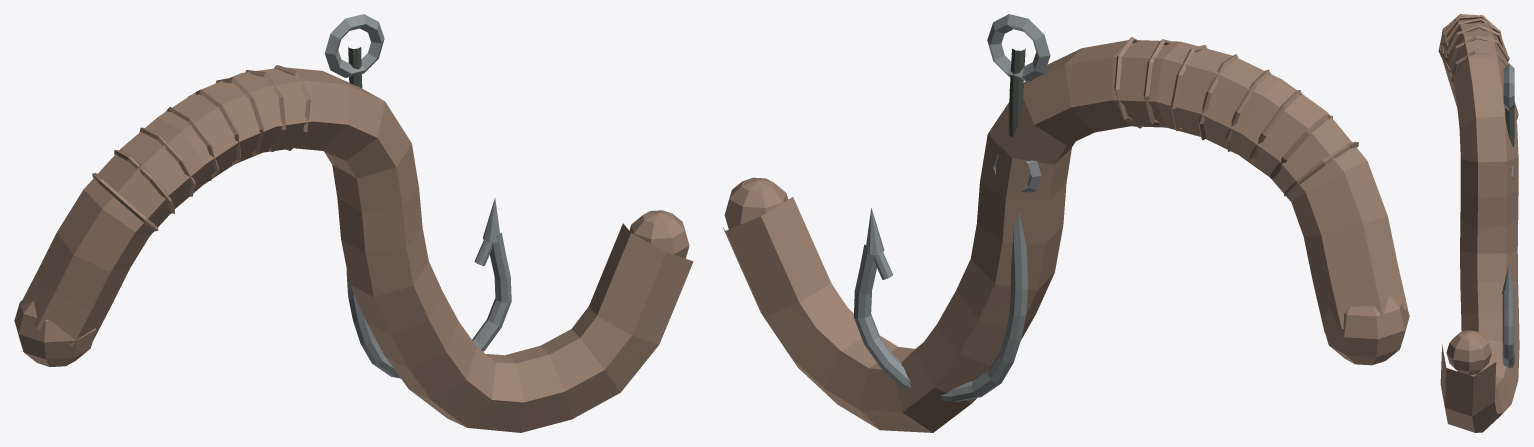
The model's file is bait-lv1.glb.
3 views of the same model, side by side, from view 1: azimuth 30°, elevation 25°; view 2: azimuth 150°, elevation 25°; view 3: azimuth 270°, elevation 25° (orthographic). The views are drawn at different scales.
Parts seen in each view (by area): view 1: Curved_Soft_Worm, Hook_Shank_And_Bend, Worm_Head, Leader_Eye, Worm_Tail; view 2: Curved_Soft_Worm, Hook_Shank_And_Bend, Worm_Head, Leader_Eye, Worm_Tail, Short_Leader; view 3: Curved_Soft_Worm, Worm_Tail, Hook_Shank_And_Bend, Leader_Eye, Worm_Segment_6, Worm_Segment_7, Short_Leader, Worm_Segment_4, Worm_Segment_5, Worm_Segment_8, Sharp_Point, Worm_Segment_3.
Boxes of the visible parts, left/top/right/bottom form: Curved_Soft_Worm: left=19, top=67, right=693, bottom=432; Hook_Shank_And_Bend: left=346, top=232, right=511, bottom=378; Worm_Head: left=14, top=300, right=95, bottom=366; Leader_Eye: left=324, top=14, right=384, bottom=77; Worm_Tail: left=629, top=210, right=689, bottom=258; Curved_Soft_Worm: left=723, top=40, right=1407, bottom=432; Hook_Shank_And_Bend: left=854, top=212, right=1028, bottom=401; Worm_Head: left=1323, top=295, right=1409, bottom=365; Leader_Eye: left=987, top=14, right=1050, bottom=81; Worm_Tail: left=724, top=177, right=788, bottom=229; Short_Leader: left=1009, top=48, right=1025, bottom=136; Curved_Soft_Worm: left=1440, top=19, right=1519, bottom=432; Worm_Tail: left=1446, top=330, right=1491, bottom=375; Hook_Shank_And_Bend: left=1502, top=289, right=1514, bottom=368; Leader_Eye: left=1503, top=63, right=1514, bottom=111; Worm_Segment_6: left=1446, top=25, right=1507, bottom=61; Worm_Segment_7: left=1448, top=35, right=1509, bottom=70; Short_Leader: left=1505, top=106, right=1514, bottom=146; Worm_Segment_4: left=1443, top=15, right=1497, bottom=60; Worm_Segment_5: left=1444, top=18, right=1501, bottom=64; Worm_Segment_8: left=1451, top=50, right=1508, bottom=83; Sharp_Point: left=1502, top=266, right=1514, bottom=293; Worm_Segment_3: left=1441, top=14, right=1494, bottom=60.
Size of the model in its own units: 2 by 1.27 by 0.3043.
